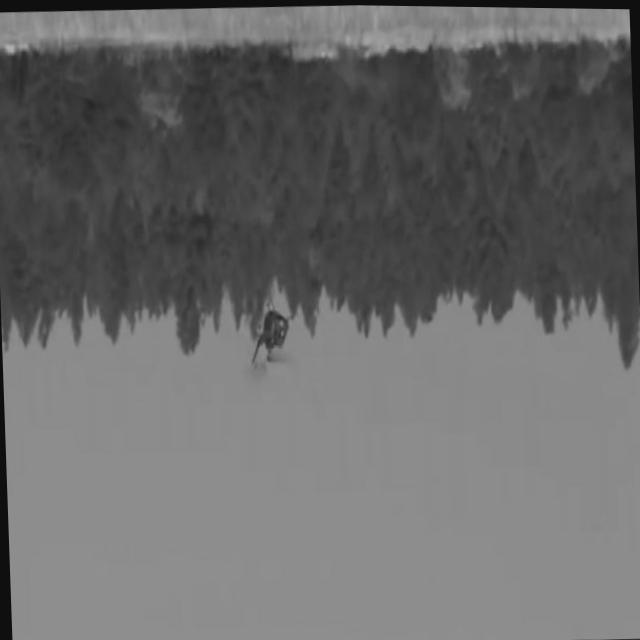helikopter: (221, 277, 313, 393)
